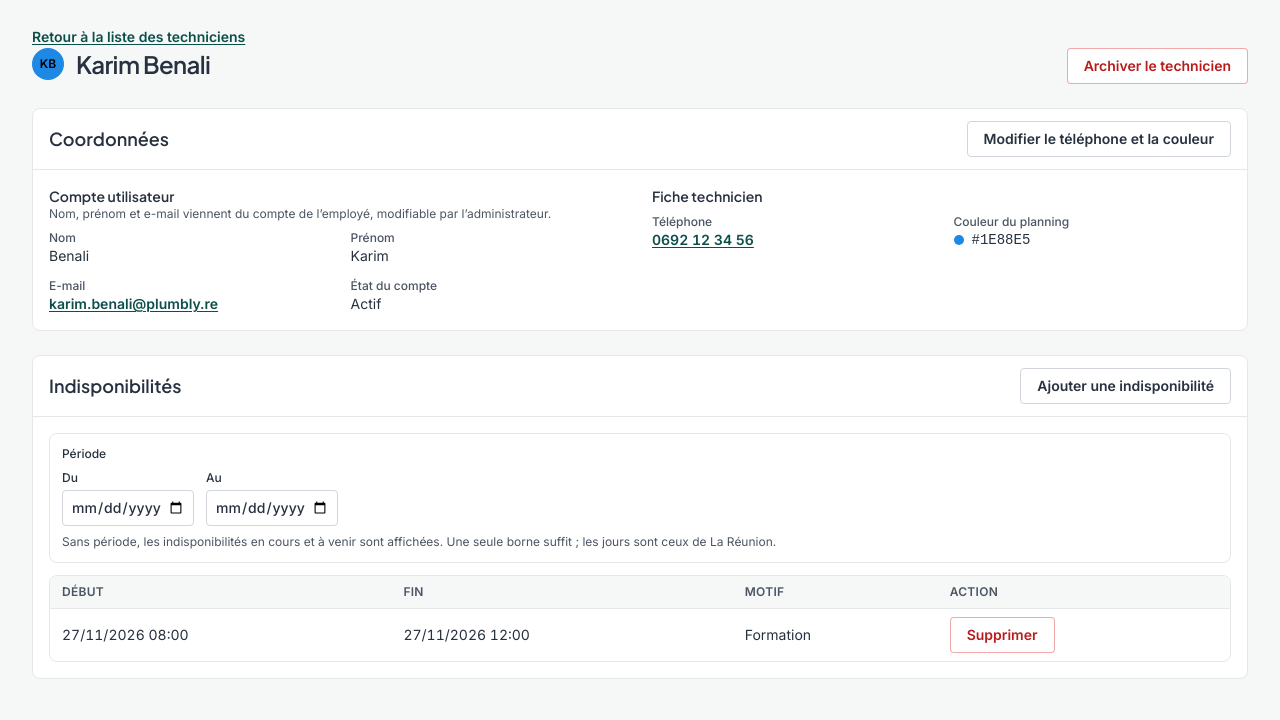
it: liste des indisponibilités (US12) › US12 : la période envoie du et au en AAAA-MM-JJ, une borne seule part seule, et le retour aux « à venir » relit sans paramètre en gardant le focus
Expected: the element "Indisponibilités" is shown, [32,355,1248,679]
In the date field labelled "Du": (128, 508) [62,490,194,526], type "2026-12-01"
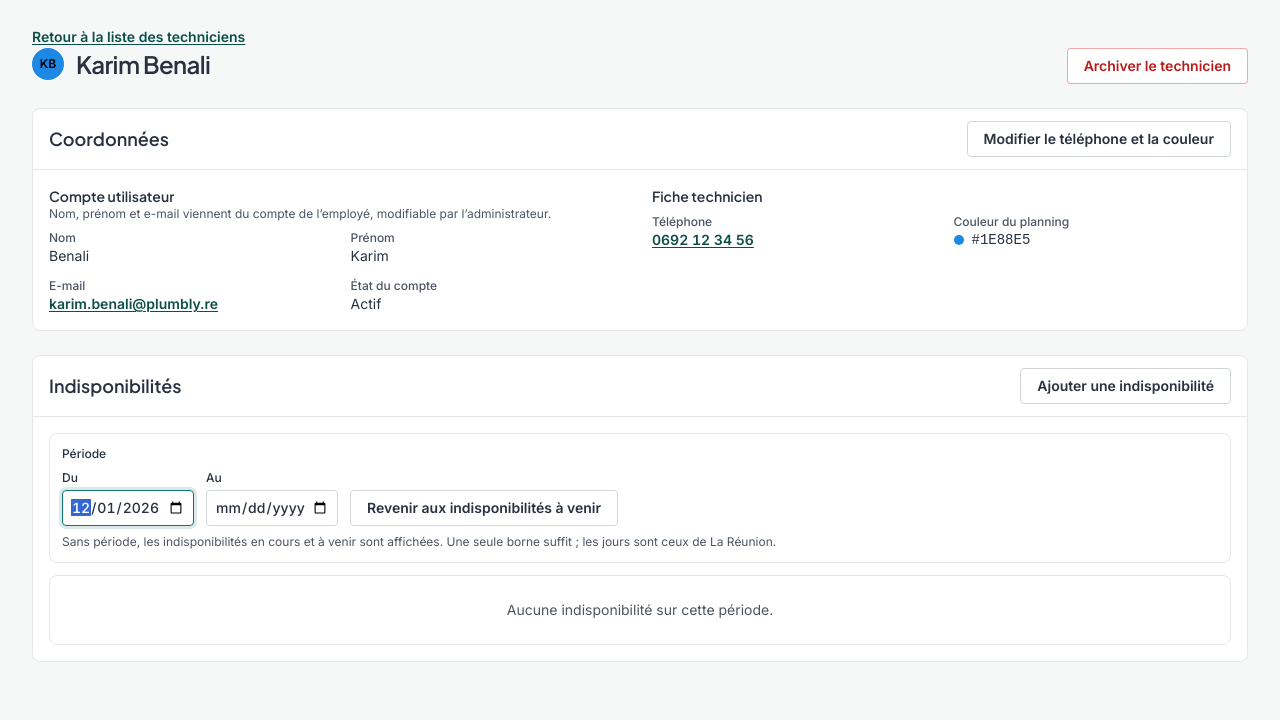
In the date field labelled "Au": (272, 508) [206,490,338,526], type "2026-12-31"
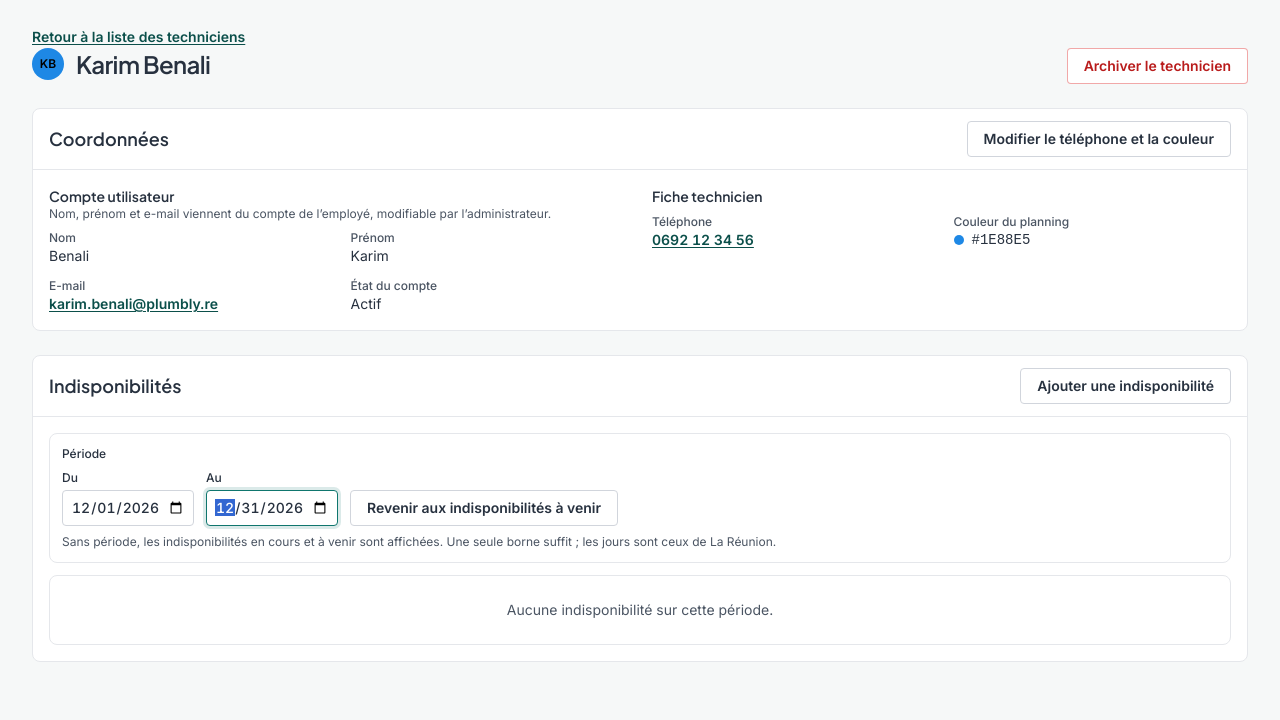
Expected: the text "Aucune indisponibilité sur cette période." is shown, [49,575,1231,645]
Click the button "Revenir aux indisponibilités à venir": (484, 508) [350,490,618,526]
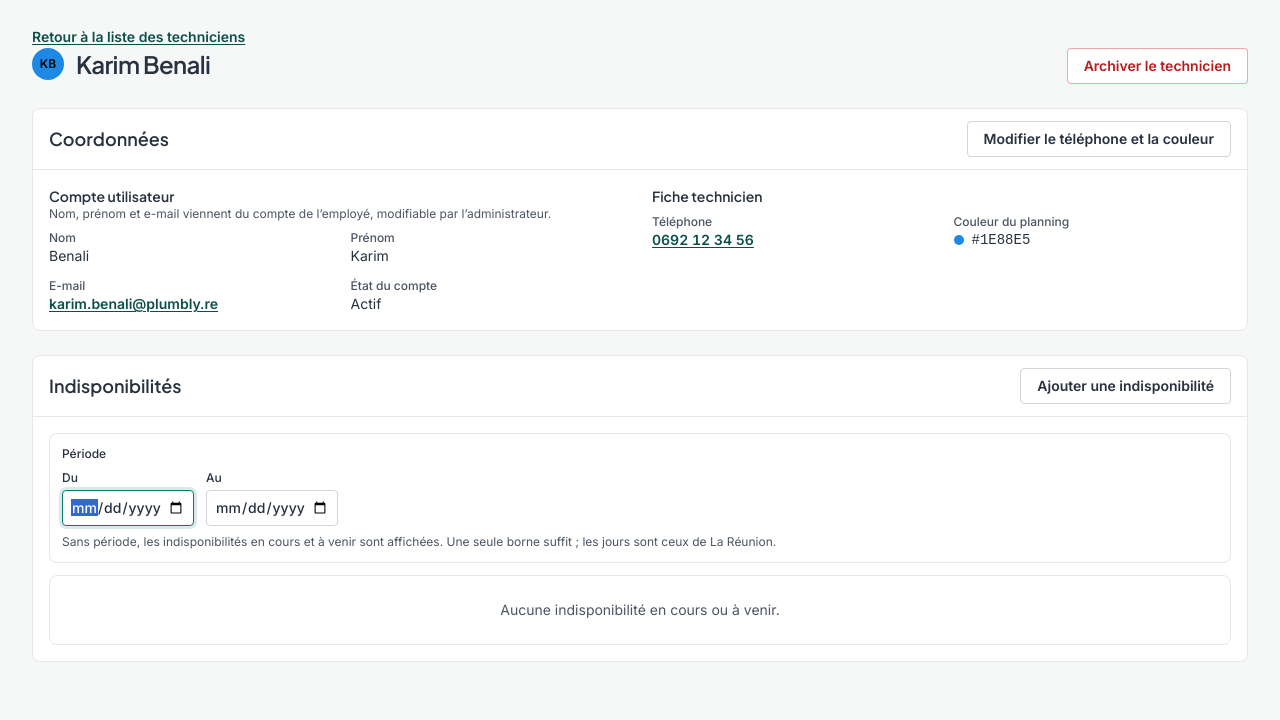
Expected: the date field labelled "Du" is empty, [62,490,194,526]
Expected: the date field labelled "Au" is empty, [206,490,338,526]
Expected: the button "Revenir aux indisponibilités à venir" is gone
